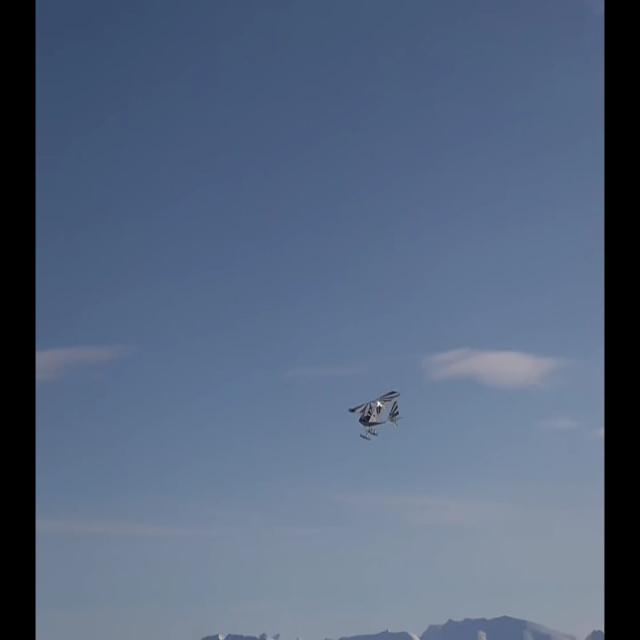iha: (347, 388, 404, 442)
